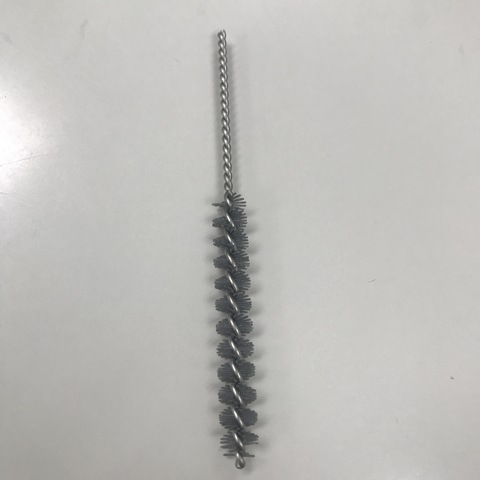Twist Brush-A: (202, 26, 261, 471)
